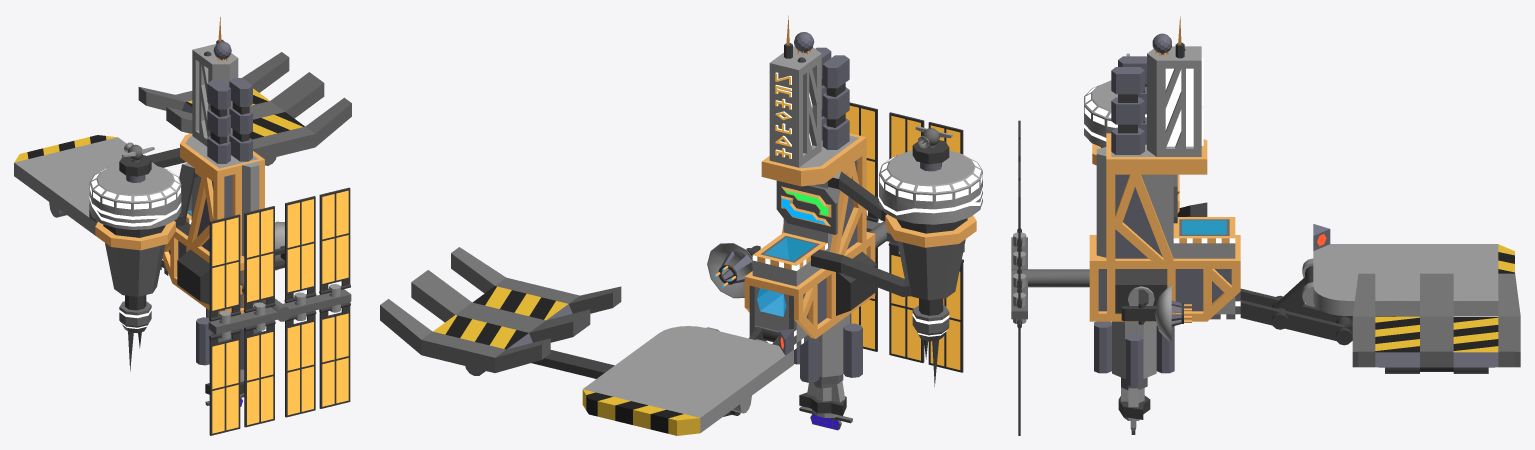
Rendered from CommerceHub (1).fbx.
3 renders of one model, left to right at view 1: azimuth 30°, elevation 25°; view 2: azimuth 150°, elevation 25°; view 3: azimuth 270°, elevation 25°, orthographic. The views are drawn at different scales.
Visible parts, largest first — view 1: Main Structure, Docking Bay, Offers Pad, Observation Deck, Solar Panel Y1, Solar Panel A1, Solar Panel Y2, Solar Panel A2, Solar Panel B1, Solar Panel X1, Solar Panel X2, Solar Panel B2 (+5 smaller); view 2: Main Structure, Offers Pad, Docking Bay, Observation Deck, Sign, Solar Panel X2, Solar Panel Y2, Satellite Dish, Solar Panel B1, Docking Bay CT, Solar Panel X1, Solar Panel B2 (+1 smaller); view 3: Main Structure, Docking Bay, Offers Pad, Offers Pad CT Main, Solar Array CT, Observation Deck, Satellite Dish, Offers Pad CT Arm, Satellite Dish CT.
Boxes of the visible parts, left/top/right/bottom form: Main Structure: left=95, top=17, right=264, bottom=406; Docking Bay: left=138, top=52, right=351, bottom=165; Offers Pad: left=14, top=135, right=156, bottom=235; Observation Deck: left=89, top=164, right=181, bottom=229; Solar Panel Y1: left=209, top=214, right=240, bottom=321; Solar Panel A1: left=319, top=187, right=350, bottom=294; Solar Panel Y2: left=209, top=329, right=240, bottom=435; Solar Panel A2: left=319, top=302, right=350, bottom=408; Solar Panel B1: left=284, top=196, right=316, bottom=303; Solar Panel X1: left=244, top=206, right=275, bottom=313; Solar Panel X2: left=244, top=320, right=275, bottom=427; Solar Panel B2: left=285, top=310, right=316, bottom=417; Main Structure: left=744, top=15, right=976, bottom=430; Offers Pad: left=582, top=326, right=793, bottom=435; Docking Bay: left=380, top=247, right=621, bottom=375; Observation Deck: left=879, top=150, right=982, bottom=224; Sign: left=776, top=180, right=837, bottom=234; Solar Panel X2: left=888, top=242, right=924, bottom=362; Solar Panel Y2: left=928, top=259, right=963, bottom=372; Satellite Dish: left=707, top=243, right=760, bottom=298; Solar Panel B1: left=845, top=102, right=878, bottom=222; Docking Bay CT: left=531, top=350, right=614, bottom=378; Solar Panel X1: left=889, top=112, right=924, bottom=158; Solar Panel B2: left=851, top=247, right=877, bottom=351; Main Structure: left=1089, top=16, right=1240, bottom=434; Docking Bay: left=1352, top=273, right=1520, bottom=373; Offers Pad: left=1302, top=224, right=1514, bottom=316; Offers Pad CT Main: left=1240, top=288, right=1352, bottom=345; Solar Array CT: left=1011, top=237, right=1089, bottom=319; Observation Deck: left=1084, top=80, right=1146, bottom=147; Satellite Dish: left=1121, top=284, right=1191, bottom=342; Offers Pad CT Arm: left=1271, top=265, right=1313, bottom=329; Satellite Dish CT: left=1128, top=286, right=1154, bottom=324.
Size of the model in its own units: 40.99 by 41.53 by 45.5.
